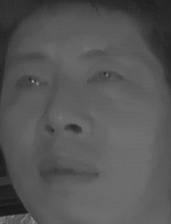eye: (84, 66, 124, 89), (10, 72, 50, 93)
mouth: (35, 151, 98, 186)
